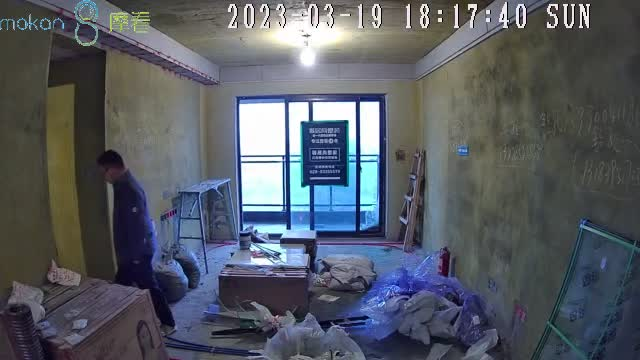people: (94, 150, 177, 338)
window: (237, 98, 383, 237)
